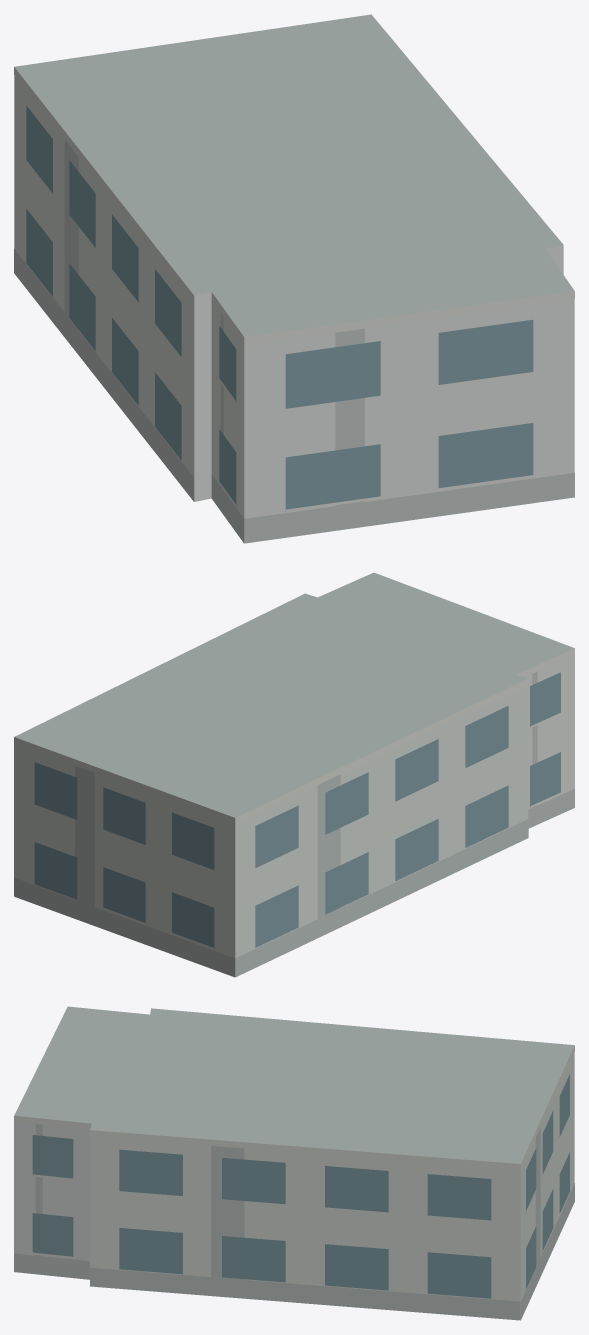
The model's file is survey-upis-32771409.glb.
The picture shows the model from 3 angles, top to bottom: view 1: azimuth 30°, elevation 25°; view 2: azimuth 150°, elevation 25°; view 3: azimuth 270°, elevation 25°; orthographic projection. The views are drawn at different scales.
Visible parts, largest first — view 1: survey-upis-32771409.tmp; view 2: survey-upis-32771409.tmp; view 3: survey-upis-32771409.tmp.
Part boxes in pixels (x1,y1,x2,y2): survey-upis-32771409.tmp: (14, 14, 574, 543); survey-upis-32771409.tmp: (14, 572, 574, 977); survey-upis-32771409.tmp: (14, 1006, 574, 1320).
Size of the model in its own units: 13.2 by 6.1 by 19.83.
